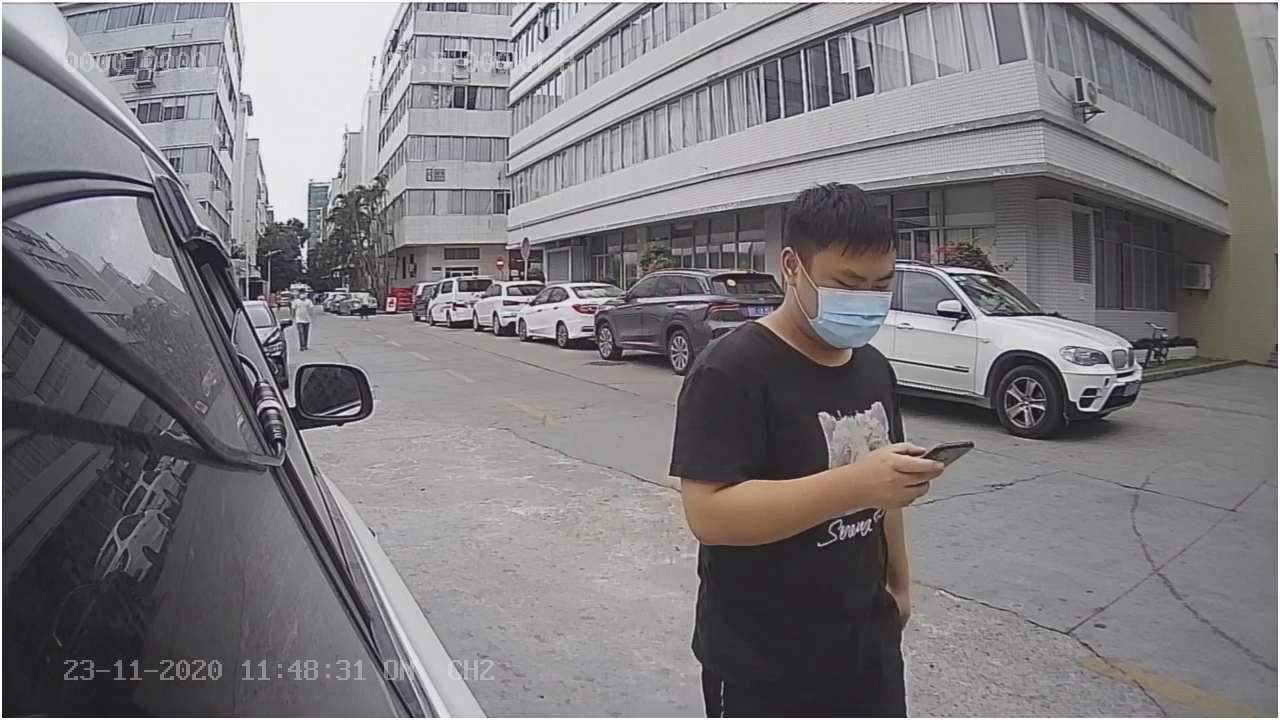person: (663, 171, 983, 646)
